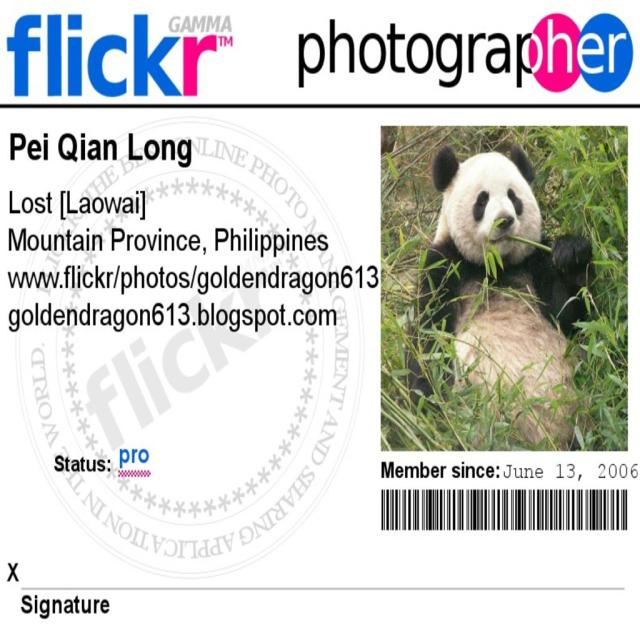panda: (410, 147, 600, 452)
